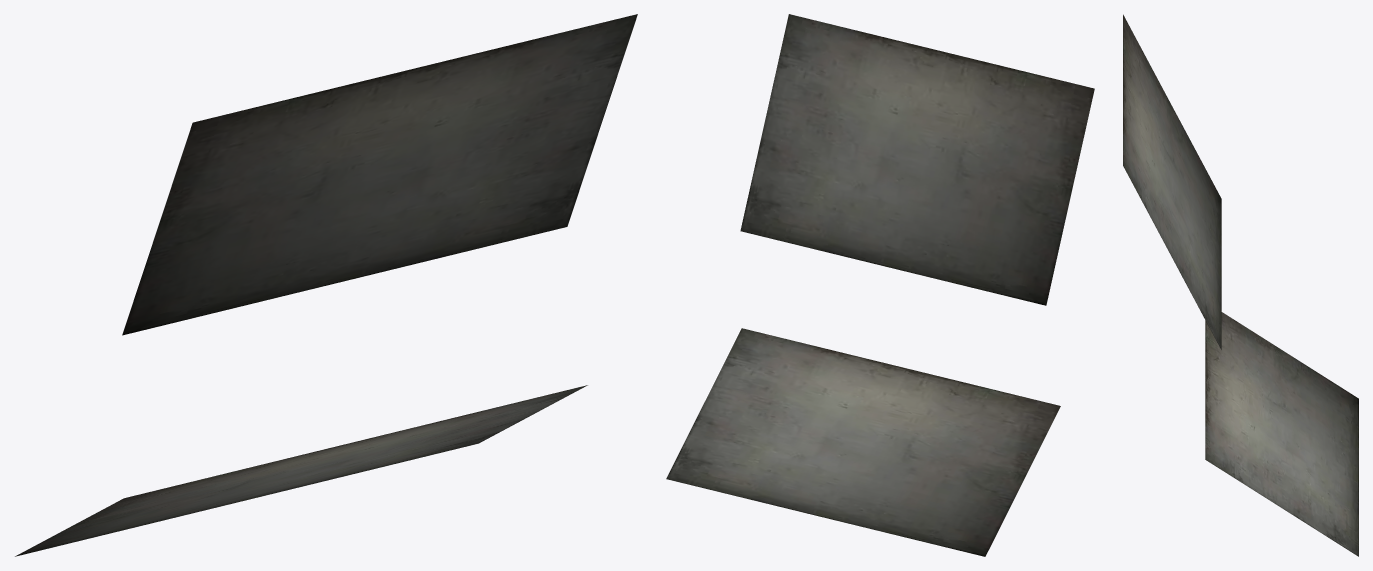
Rendered from cabinlighting.glb.
3 views of the same model, side by side, from view 1: azimuth 30°, elevation 25°; view 2: azimuth 150°, elevation 25°; view 3: azimuth 270°, elevation 25° (orthographic). The views are drawn at different scales.
Visible parts, largest first — view 1: GlassBlankTop, GlassBlankBottom; view 2: GlassBlankTop, GlassBlankBottom; view 3: GlassBlankBottom, GlassBlankTop.
Boxes of the visible parts, x1,y1,x2,y2 form: GlassBlankTop: (122,14,637,335); GlassBlankBottom: (15,385,587,556); GlassBlankTop: (740,14,1094,305); GlassBlankBottom: (666,328,1060,556); GlassBlankBottom: (1205,312,1358,556); GlassBlankTop: (1123,14,1221,349).
Size of the model in its own units: 0.24 by 0.2742 by 0.1511.
1 material, 1 textured.
